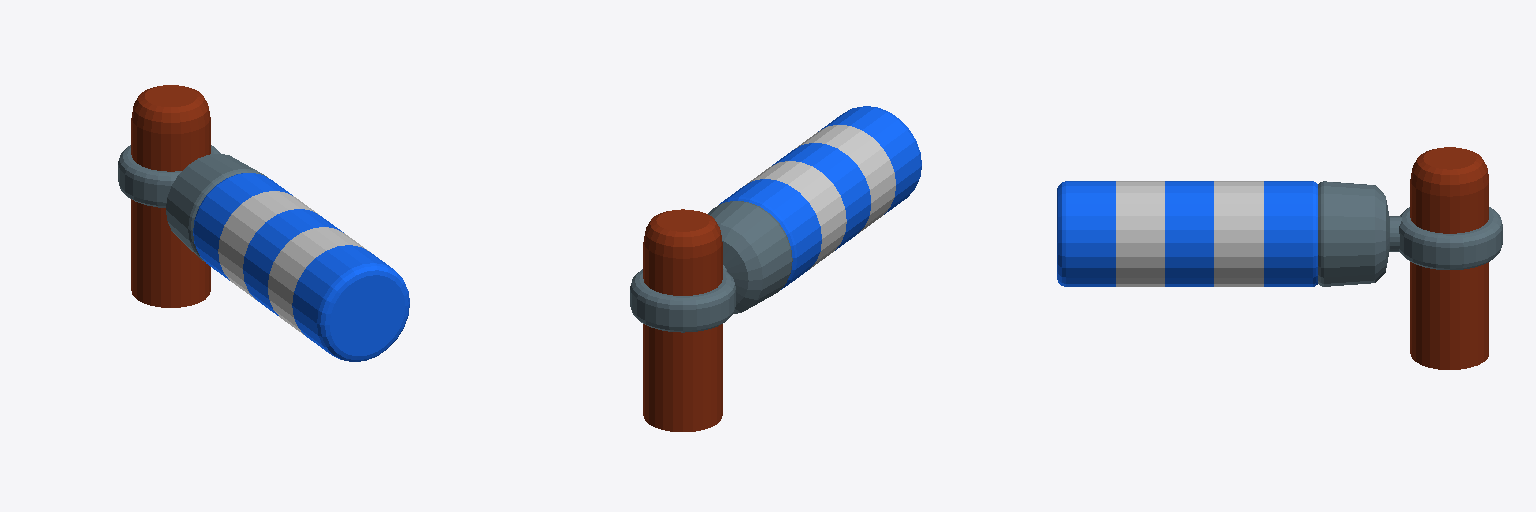
The model's file is swiper_teamBlue.obj.
3 renders of one model, left to right at view 1: azimuth 30°, elevation 25°; view 2: azimuth 150°, elevation 25°; view 3: azimuth 270°, elevation 25°, orthographic.
Parts seen in each view (by area): view 1: swiper_teamBlue_Cylinder.058; view 2: swiper_teamBlue_Cylinder.058; view 3: swiper_teamBlue_Cylinder.058.
Part boxes in pixels (x1,y1,x2,y2): swiper_teamBlue_Cylinder.058: (118, 85, 409, 361); swiper_teamBlue_Cylinder.058: (630, 106, 921, 431); swiper_teamBlue_Cylinder.058: (1057, 147, 1502, 369).
Bounding box in the file's own units: 0.8059 × 1.63 × 3.38.